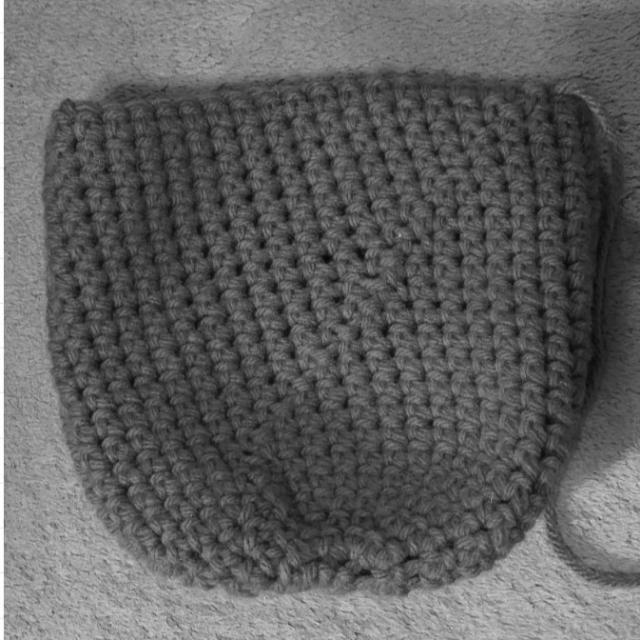sc: (120, 510, 157, 559), (42, 98, 76, 146), (283, 512, 324, 551), (500, 461, 536, 505), (64, 323, 100, 367), (243, 510, 283, 549), (269, 528, 311, 565), (371, 536, 418, 569), (453, 531, 494, 568), (407, 523, 453, 554), (485, 503, 517, 547), (209, 352, 246, 390), (124, 101, 161, 139), (108, 370, 142, 411), (149, 340, 188, 375), (222, 94, 262, 128), (512, 428, 541, 474), (78, 275, 114, 312), (371, 267, 406, 305), (229, 210, 264, 248), (90, 399, 123, 439), (516, 400, 547, 442), (76, 250, 110, 288), (238, 483, 271, 522), (251, 538, 283, 578), (321, 221, 357, 256), (151, 100, 186, 136), (197, 305, 231, 342), (544, 382, 573, 425), (201, 537, 235, 573), (274, 88, 313, 119), (72, 102, 102, 142), (77, 442, 112, 476), (101, 486, 137, 519), (186, 357, 219, 393), (399, 188, 432, 224), (104, 134, 137, 170), (198, 96, 234, 129), (332, 242, 364, 279), (301, 82, 338, 114), (130, 368, 164, 402), (347, 124, 381, 158), (144, 388, 177, 423), (248, 90, 283, 123), (95, 233, 131, 265), (172, 99, 208, 131), (282, 176, 313, 213), (101, 105, 132, 142), (180, 335, 213, 369), (301, 247, 335, 280), (315, 200, 349, 233), (112, 298, 145, 332), (365, 340, 397, 375), (420, 549, 455, 581), (75, 353, 107, 388), (351, 530, 382, 566), (236, 114, 267, 150), (431, 245, 461, 282), (181, 518, 214, 551), (338, 173, 371, 206), (171, 386, 203, 420), (46, 136, 80, 168), (395, 91, 427, 125), (282, 388, 317, 419), (388, 315, 419, 350), (117, 321, 148, 356), (87, 302, 118, 337), (159, 126, 190, 161), (545, 300, 572, 340), (462, 267, 490, 305), (211, 118, 239, 156), (83, 377, 115, 410), (364, 242, 396, 275), (236, 233, 268, 266), (494, 105, 527, 137), (143, 504, 177, 535), (171, 311, 202, 345), (241, 257, 275, 288), (127, 247, 158, 281), (357, 77, 396, 104), (199, 506, 234, 536), (429, 387, 459, 422), (331, 80, 366, 110), (246, 169, 282, 198), (520, 346, 546, 386), (275, 371, 312, 399), (543, 275, 571, 312), (432, 219, 459, 257), (458, 220, 485, 258), (57, 392, 89, 424), (383, 292, 414, 325), (294, 226, 327, 257), (146, 317, 177, 350), (184, 479, 218, 509), (421, 487, 451, 521), (202, 216, 232, 250), (100, 435, 135, 464), (161, 530, 190, 565), (465, 291, 494, 326), (407, 268, 436, 303), (392, 164, 421, 199), (135, 450, 171, 478), (186, 123, 214, 159), (124, 426, 161, 453), (162, 495, 199, 522), (253, 391, 284, 423), (152, 411, 183, 443), (124, 345, 155, 377), (192, 284, 224, 315), (216, 262, 248, 293), (149, 471, 182, 501), (467, 485, 500, 515), (517, 320, 547, 353), (271, 249, 301, 282), (413, 140, 443, 173), (431, 116, 461, 149), (424, 92, 454, 125), (469, 338, 495, 376), (406, 242, 432, 280), (450, 366, 479, 400), (547, 361, 576, 395), (94, 326, 123, 360), (404, 116, 433, 150), (402, 385, 430, 420), (159, 370, 194, 398), (346, 194, 374, 229), (264, 114, 292, 149), (495, 338, 520, 377), (514, 270, 540, 307), (288, 201, 319, 232), (209, 239, 240, 270), (69, 232, 100, 263), (278, 274, 308, 306), (240, 349, 270, 381), (495, 421, 519, 461), (101, 350, 131, 382), (441, 317, 471, 349), (361, 320, 391, 352), (351, 219, 381, 251), (365, 169, 395, 201), (64, 205, 94, 237), (530, 128, 560, 160), (566, 210, 595, 243), (167, 292, 196, 325), (104, 251, 133, 284), (66, 418, 99, 447), (262, 328, 296, 356), (373, 365, 401, 399), (489, 291, 517, 325), (52, 162, 86, 190), (344, 100, 372, 134), (452, 438, 477, 476), (413, 291, 440, 326), (140, 294, 167, 329), (158, 440, 194, 466), (517, 295, 543, 331), (185, 262, 211, 298), (221, 285, 252, 315), (537, 227, 567, 258), (527, 105, 557, 136), (59, 183, 88, 215), (281, 302, 318, 327), (546, 332, 574, 365), (377, 119, 405, 152), (248, 281, 282, 308), (381, 219, 415, 246), (135, 130, 162, 164), (78, 133, 105, 167), (407, 218, 431, 256), (440, 291, 466, 326), (360, 295, 386, 330), (486, 247, 512, 282), (488, 268, 513, 304), (290, 114, 320, 144), (382, 507, 411, 538), (90, 463, 119, 494), (450, 510, 481, 539), (479, 178, 508, 209), (369, 97, 398, 128), (510, 202, 538, 234), (255, 183, 283, 215), (86, 187, 118, 215), (307, 273, 340, 300), (466, 135, 499, 162), (253, 421, 277, 458), (513, 243, 537, 280), (417, 314, 443, 348), (391, 238, 412, 280), (468, 315, 493, 350), (291, 318, 320, 348), (320, 317, 350, 346), (348, 391, 377, 421), (197, 196, 227, 225), (544, 425, 572, 456), (471, 155, 502, 183), (319, 400, 351, 427), (432, 411, 458, 444), (486, 459, 509, 496), (218, 174, 252, 199), (295, 341, 324, 370), (256, 477, 285, 506), (505, 154, 534, 183), (317, 109, 346, 138), (341, 270, 371, 298), (400, 366, 428, 396), (498, 370, 522, 405), (493, 317, 517, 352), (436, 271, 464, 301), (161, 275, 191, 303), (259, 210, 289, 238), (265, 231, 295, 259), (227, 189, 255, 219), (298, 133, 328, 161), (405, 433, 432, 464), (401, 514, 428, 545), (482, 207, 513, 234), (524, 84, 551, 115), (311, 298, 343, 324), (485, 221, 511, 253), (385, 150, 417, 176), (81, 163, 113, 189), (342, 516, 365, 552), (559, 129, 583, 163), (228, 403, 257, 431), (223, 382, 252, 410), (233, 465, 262, 493), (126, 230, 155, 258), (419, 167, 447, 196), (304, 159, 333, 187), (511, 225, 538, 255), (165, 154, 192, 184), (324, 132, 354, 159), (501, 131, 528, 161), (229, 310, 260, 336), (245, 376, 276, 402), (198, 452, 229, 478), (212, 427, 243, 453), (419, 348, 450, 374), (462, 245, 485, 280), (438, 500, 463, 532), (254, 306, 287, 330), (267, 352, 300, 376), (446, 338, 470, 371), (116, 403, 149, 427), (341, 293, 363, 329), (209, 470, 237, 498), (111, 278, 139, 306), (194, 176, 222, 204), (129, 485, 158, 512), (294, 484, 321, 513), (533, 156, 562, 183), (313, 183, 342, 210), (139, 159, 168, 186), (217, 526, 243, 556), (271, 495, 301, 521), (370, 198, 400, 224), (556, 110, 582, 140), (427, 367, 452, 398), (321, 527, 346, 558), (567, 291, 592, 322), (568, 263, 593, 294), (277, 166, 308, 191), (172, 462, 204, 486), (456, 390, 480, 422), (475, 367, 499, 399), (432, 180, 456, 212), (449, 79, 481, 103), (454, 96, 481, 124), (562, 188, 591, 214), (183, 247, 209, 276), (167, 181, 196, 207), (185, 434, 216, 458), (434, 198, 458, 229), (478, 419, 498, 456), (206, 340, 238, 363), (343, 374, 375, 397), (381, 437, 407, 465), (456, 476, 484, 502), (121, 210, 149, 236), (144, 184, 172, 210), (456, 412, 478, 445), (328, 445, 357, 470), (203, 411, 232, 436), (540, 255, 565, 284), (177, 416, 209, 438), (114, 461, 141, 487), (340, 349, 367, 375), (405, 416, 432, 442), (455, 205, 482, 231), (146, 207, 172, 234), (152, 229, 178, 256), (157, 252, 184, 278), (236, 332, 264, 357), (376, 395, 404, 420), (136, 278, 161, 306), (361, 154, 389, 179), (481, 98, 509, 123), (392, 75, 420, 100), (321, 510, 350, 534), (195, 389, 224, 413), (225, 451, 263, 469), (473, 448, 493, 482), (328, 420, 353, 447), (308, 465, 335, 490), (380, 415, 405, 442), (508, 179, 533, 206), (93, 213, 120, 238), (176, 227, 203, 252), (335, 156, 362, 181), (280, 418, 301, 450), (259, 456, 283, 484), (217, 151, 245, 175), (297, 406, 326, 429), (316, 379, 346, 401), (313, 480, 335, 510), (498, 398, 520, 428), (244, 149, 274, 171), (236, 421, 261, 447), (536, 182, 562, 207), (116, 163, 141, 189), (272, 143, 298, 168), (301, 426, 328, 450), (334, 464, 358, 491), (353, 419, 380, 443), (315, 355, 342, 379), (522, 381, 546, 408), (173, 204, 197, 231), (568, 236, 591, 264), (115, 187, 143, 210), (420, 78, 448, 101), (439, 148, 468, 170), (396, 346, 421, 371), (431, 442, 455, 468), (456, 181, 480, 207), (193, 157, 219, 181), (422, 465, 449, 488), (562, 161, 585, 188), (356, 441, 380, 466), (537, 207, 562, 231), (302, 447, 329, 469), (223, 494, 242, 525), (356, 480, 377, 508), (411, 482, 432, 510), (572, 319, 593, 347), (352, 504, 376, 528), (332, 484, 355, 509), (462, 122, 485, 147), (279, 450, 306, 471), (478, 80, 506, 100), (572, 348, 591, 377), (441, 472, 466, 494), (336, 334, 362, 355), (286, 465, 307, 491), (358, 465, 381, 488), (572, 377, 588, 410), (481, 391, 498, 422), (382, 461, 403, 486), (378, 483, 399, 508), (373, 506, 393, 532), (406, 465, 426, 488), (398, 484, 414, 508)
